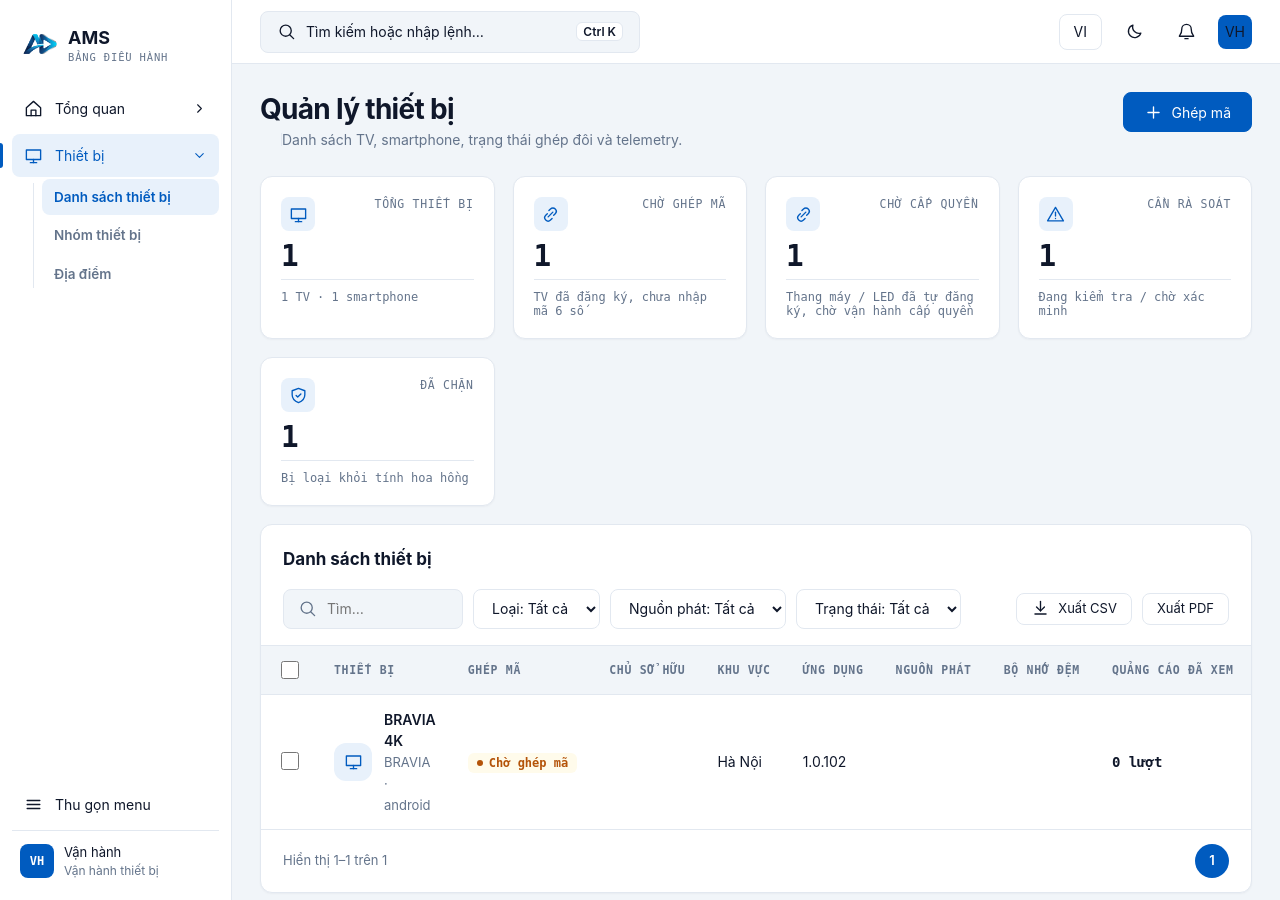
Ghép mã (Devices) › co nut "Ghép mã"; nhap 6 so -> POST /devices/pair; ma sai hien thong bao tieng Viet theo ma loi
Expected: the text "Chờ ghép mã" below "BRAVIA 4K" is shown, [489,756,568,770]
Click the button "Ghép mã": (1188, 112) [1124,92,1252,132]
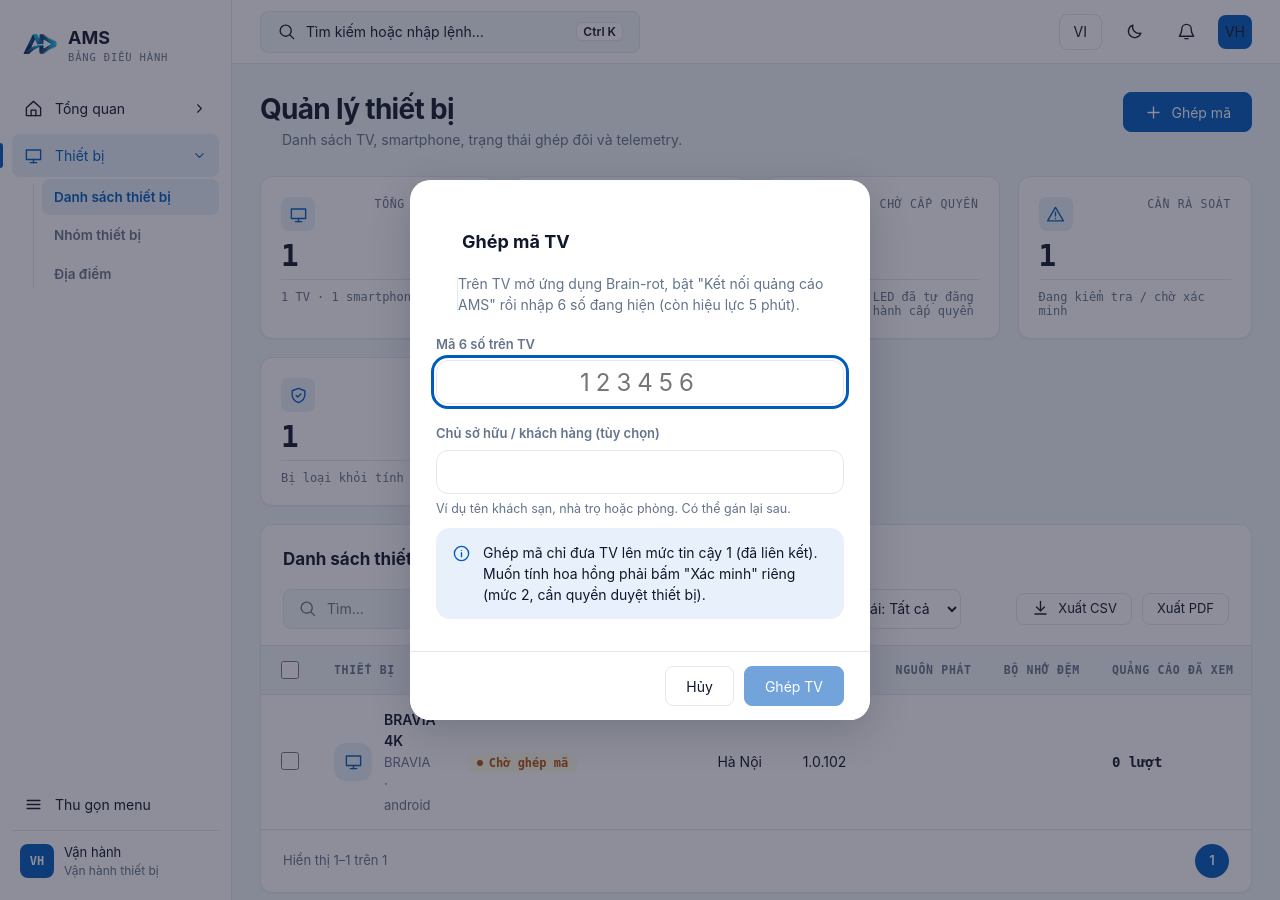
Result: the button "Ghép TV" is disabled at [744,666,844,706]
In the field labelled "Mã 6 số trên TV": (640, 382) [436,360,844,404], type "12a34"
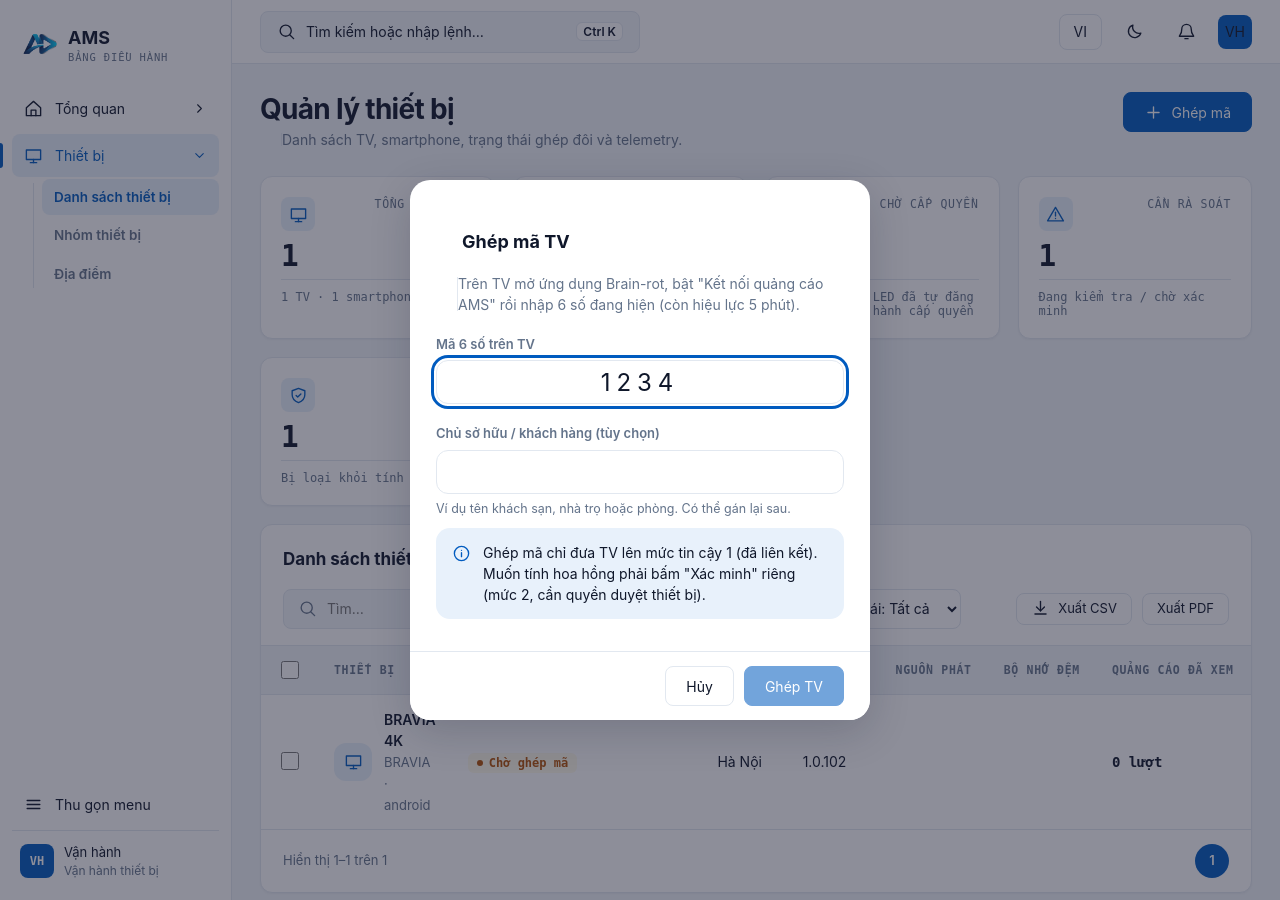
Result: the button "Ghép TV" is disabled at [744,666,844,706]
In the field labelled "Mã 6 số trên TV": (640, 382) [436,360,844,404], type "56"
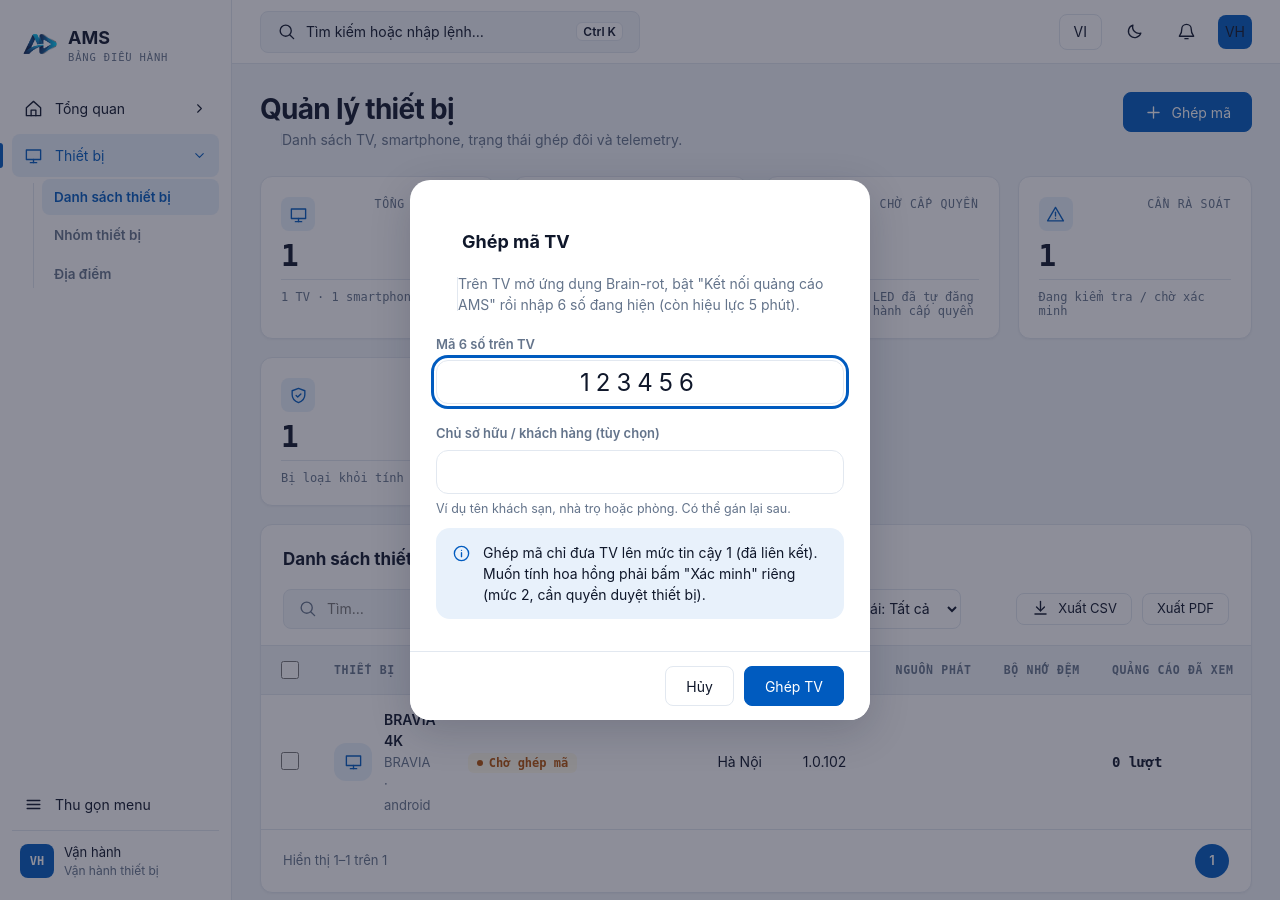
Result: the button "Ghép TV" is enabled
Click the button "Ghép TV": (794, 686) [744,666,844,706]
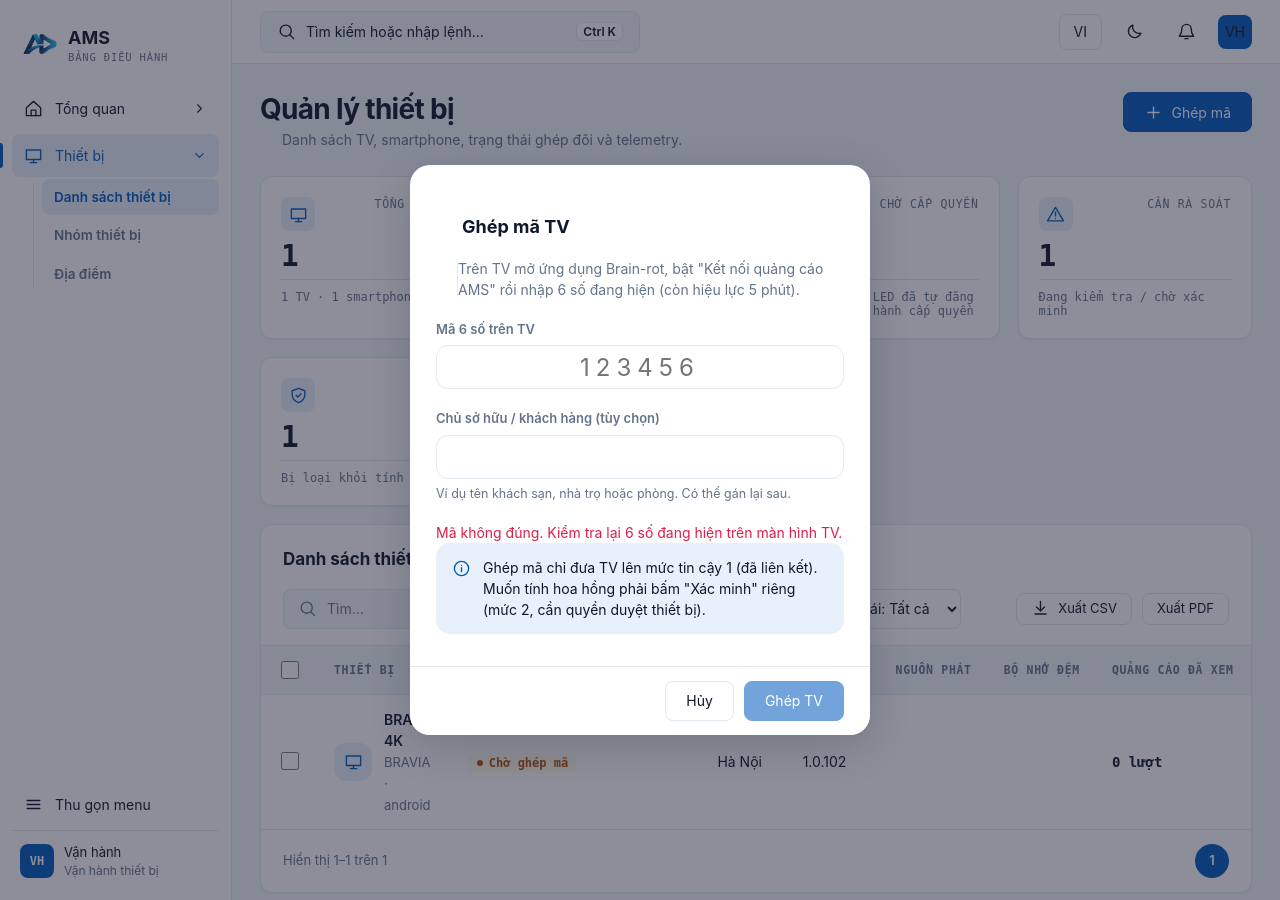
Result: the message reads "Mã không đúng. Kiểm tra lại 6 số đang hiện trên màn hình TV." at [436,524,842,541]
